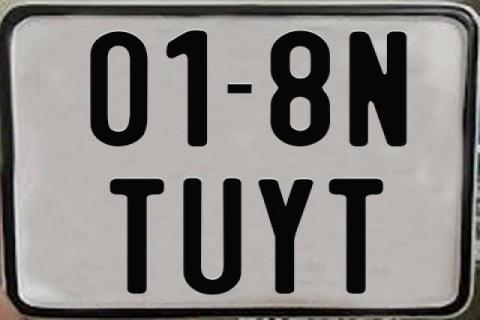0: (270, 29, 335, 145), (88, 30, 150, 148), (164, 30, 207, 146)
N: (347, 30, 410, 148)
T: (327, 176, 383, 294), (109, 177, 164, 295)
U: (183, 176, 245, 296)
Y: (255, 178, 310, 296)
